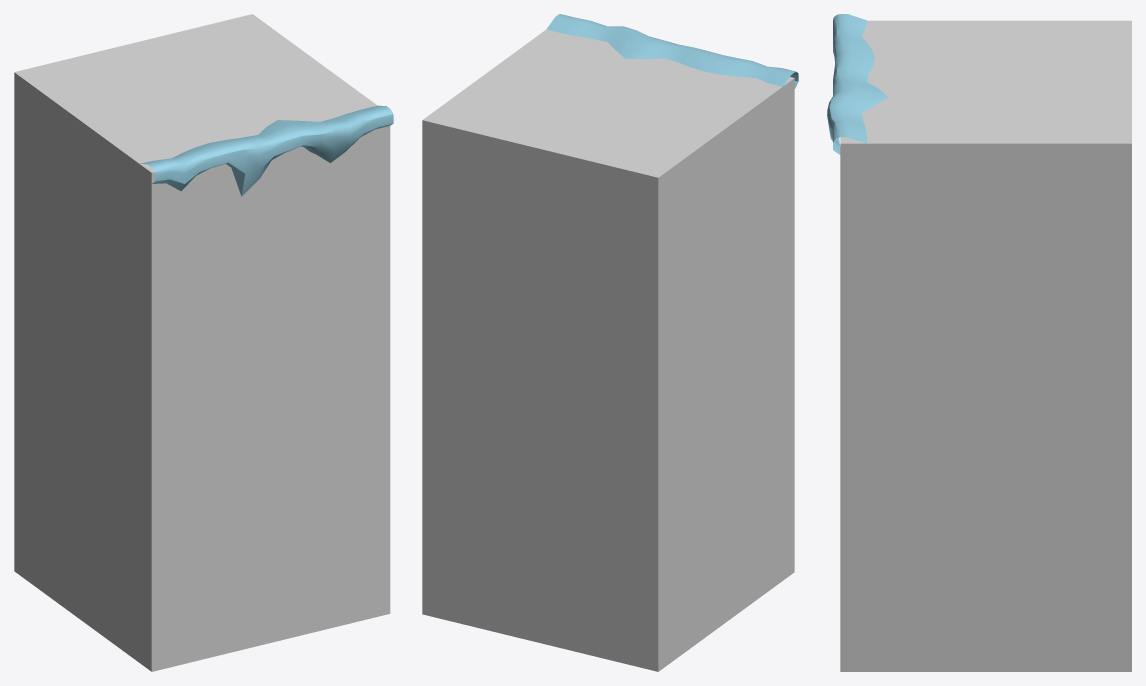
The model's file is Wall_Standard_Snow.fbx.
3 views of the same model, side by side, from view 1: azimuth 30°, elevation 25°; view 2: azimuth 150°, elevation 25°; view 3: azimuth 270°, elevation 25° (orthographic). The views are drawn at different scales.
Parts seen in each view (by area): view 1: Wall_Standard_Snow; view 2: Wall_Standard_Snow; view 3: Wall_Standard_Snow.
Boxes of the visible parts, x1,y1,x2,y2 form: Wall_Standard_Snow: (14, 14, 393, 671); Wall_Standard_Snow: (422, 14, 798, 671); Wall_Standard_Snow: (827, 14, 1131, 671).
Bounding box in the file's own units: 333 × 674 × 348.
